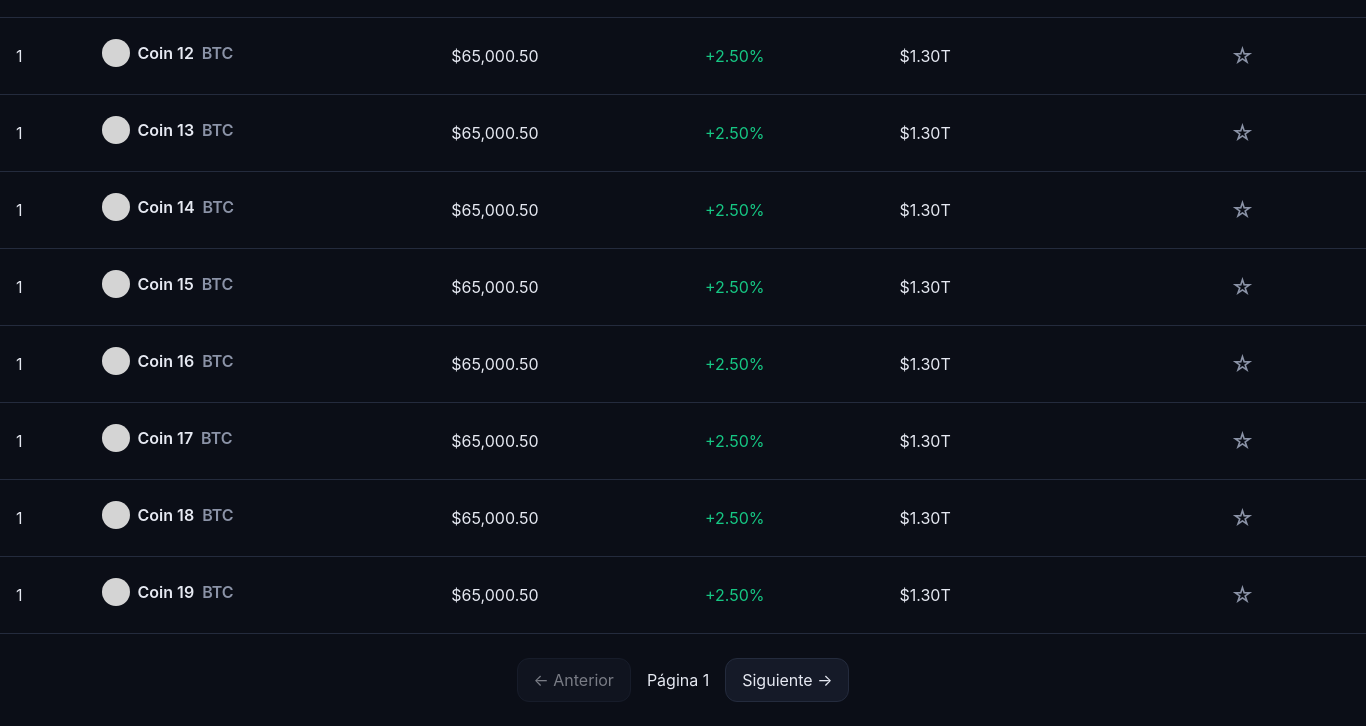
Test case: Página Coins › pide la siguiente página al pulsar "Siguiente"
(page scrolled)
Click the button "Siguiente →": [787, 680] box x1=725 y1=658 x2=850 y2=702
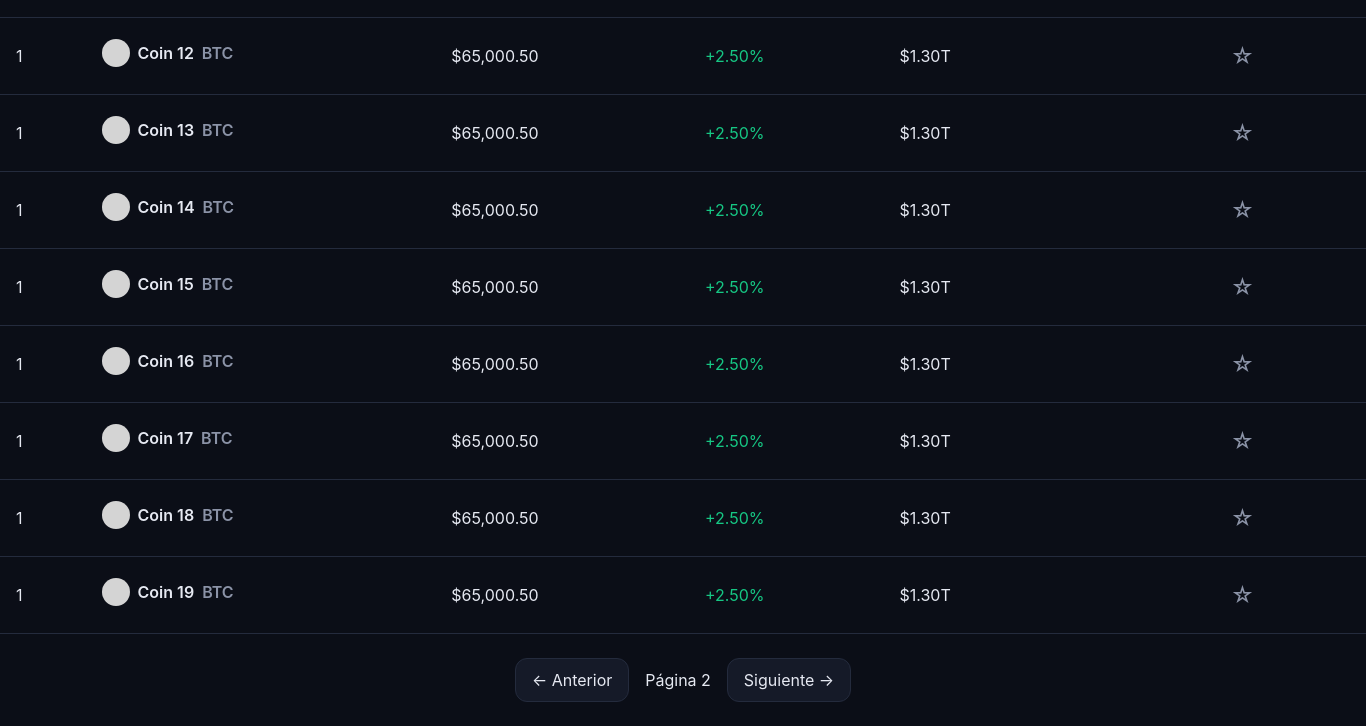
Expected: the text "Página 2" is shown, x1=645 y1=668 x2=711 y2=692
